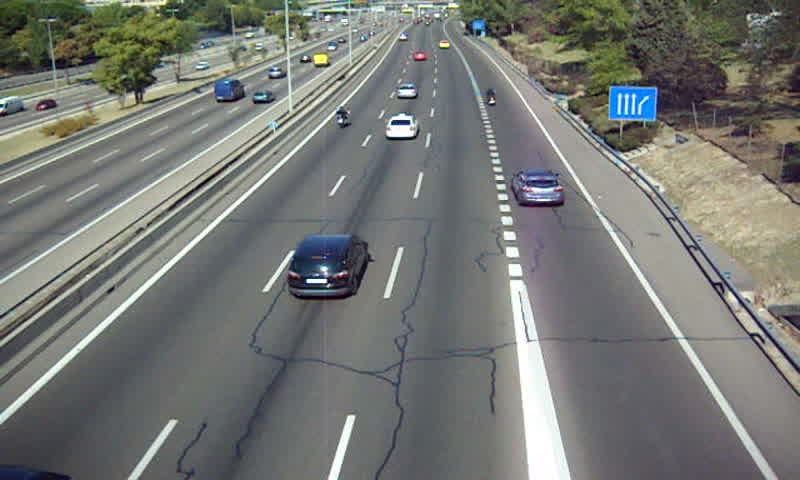car: (287, 236, 369, 300), (512, 170, 564, 207), (386, 114, 418, 139), (396, 83, 418, 100), (411, 50, 429, 62)
motorcycle: (334, 104, 350, 128), (484, 87, 498, 108)
